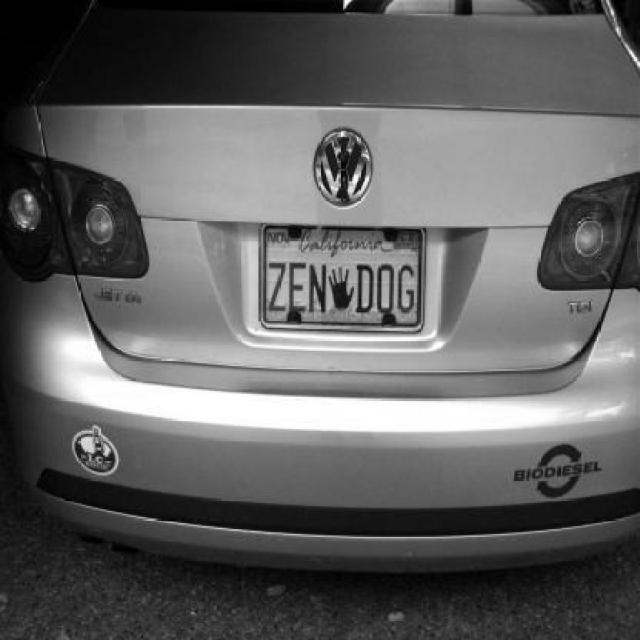car: (14, 0, 640, 574)
license-plate: (257, 232, 429, 338)
